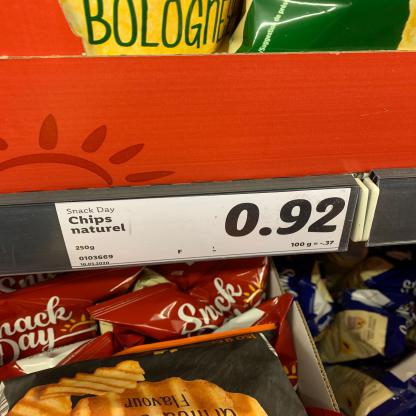prtg: (56, 190, 352, 270)
